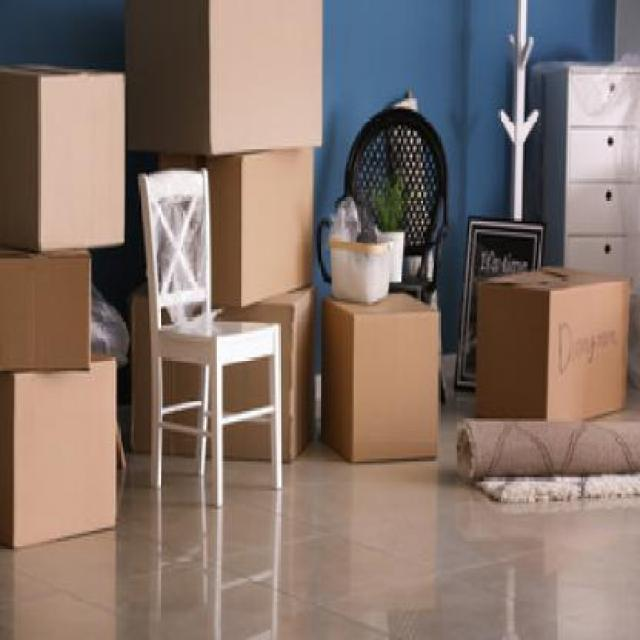box: (123, 0, 323, 157), (137, 292, 316, 464), (0, 352, 129, 550), (479, 263, 629, 432), (170, 141, 318, 312), (0, 63, 129, 248), (324, 288, 442, 466), (0, 247, 98, 378)
